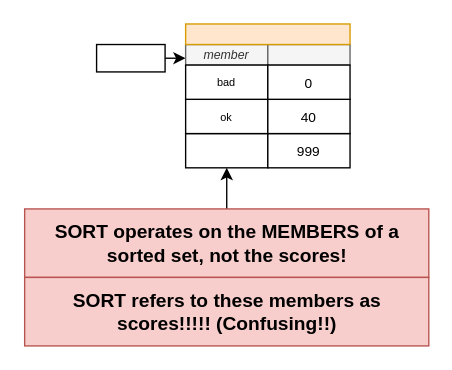
Some shapes in this 452 by 370 pixel diagram are drawn without their labels. The shapes that lost their labels are listed below. From the top down, each one's centre as x and y in pixels, then its label:
At [267,34]: "Sorted Set".
At [308,54]: "score".
At [130,57]: "books:likes".
At [226,150]: "good".
